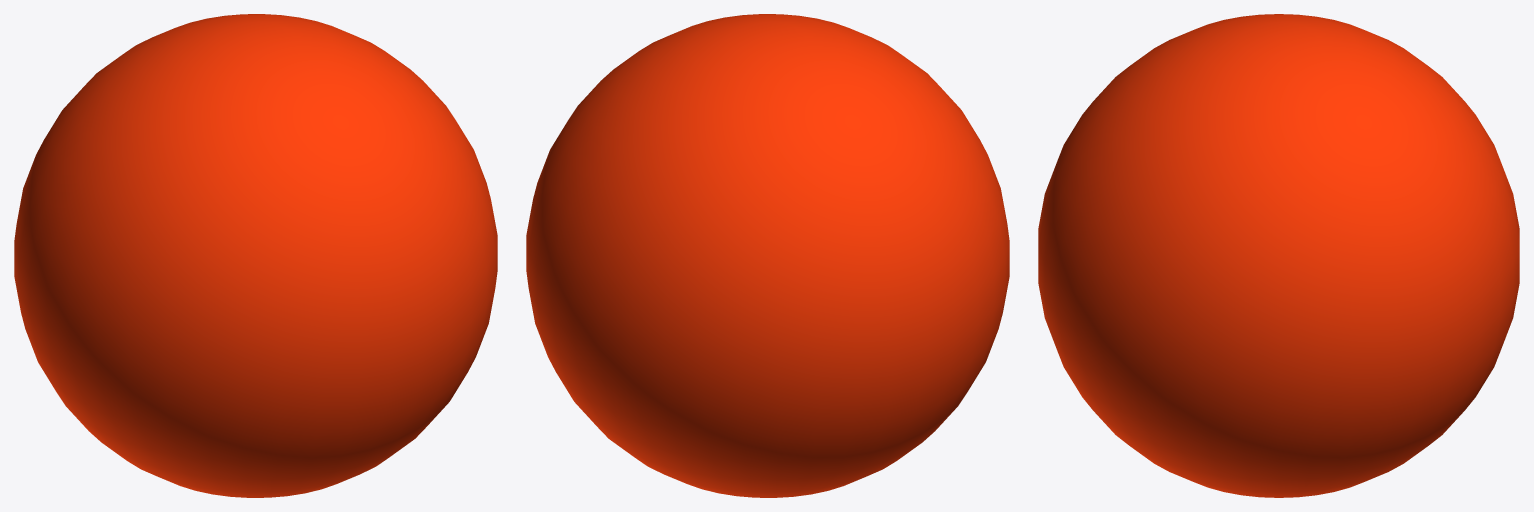
The picture shows the model from 3 angles, left to right: view 1: azimuth 30°, elevation 25°; view 2: azimuth 150°, elevation 25°; view 3: azimuth 270°, elevation 25°; orthographic projection.
Parts seen in each view (by area): view 1: 旋转1; view 2: 旋转1; view 3: 旋转1.
Part boxes in pixels (<box>): 旋转1: <box>14,14,497,497</box>; 旋转1: <box>526,14,1009,497</box>; 旋转1: <box>1038,14,1519,497</box>.
Size of the model in its own units: 23.92 by 24 by 23.84.
